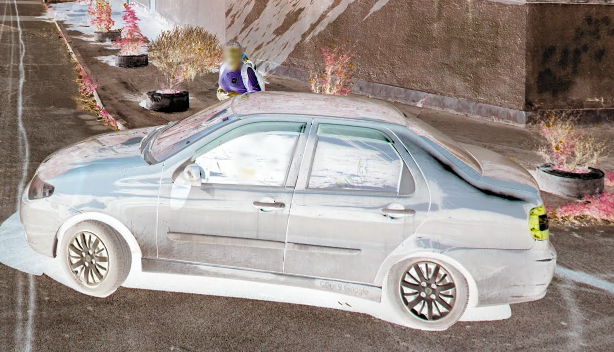car: (19, 90, 556, 333)
